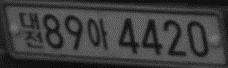0: (187, 19, 209, 58)
2: (163, 18, 186, 56)
4: (118, 17, 139, 54), (142, 18, 161, 55)
8: (43, 13, 64, 49)
9: (64, 15, 84, 51)
대전_V: (18, 11, 43, 49)
아: (87, 17, 109, 49)
